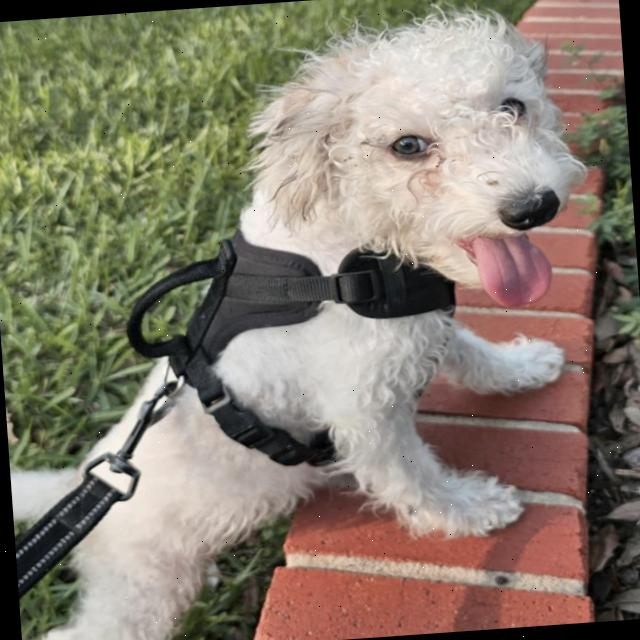Poodle_dog: (205, 0, 613, 340)
